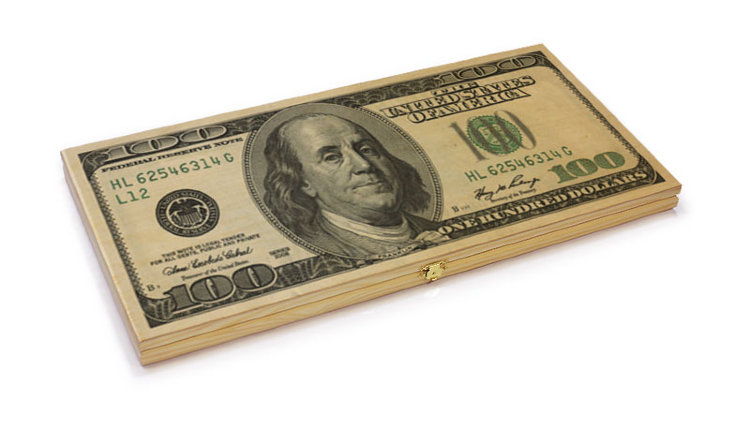cash: (60, 45, 681, 338)
